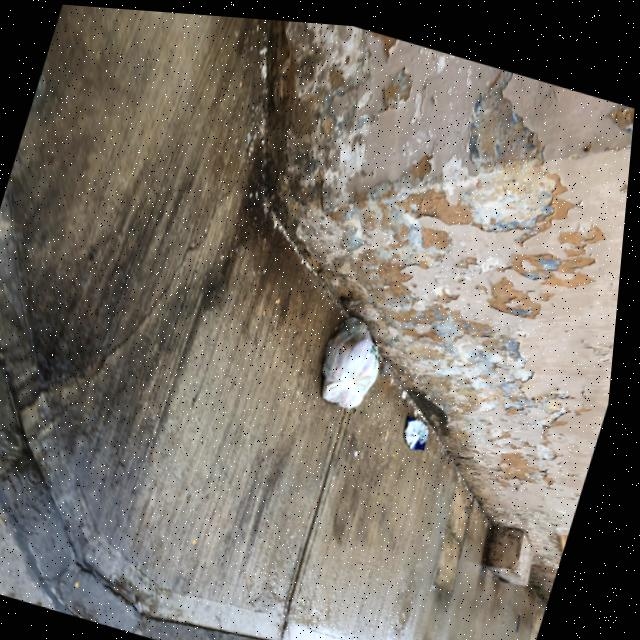Organic Waste -White Bag-: (317, 306, 399, 410)
Other: (403, 408, 441, 451)
